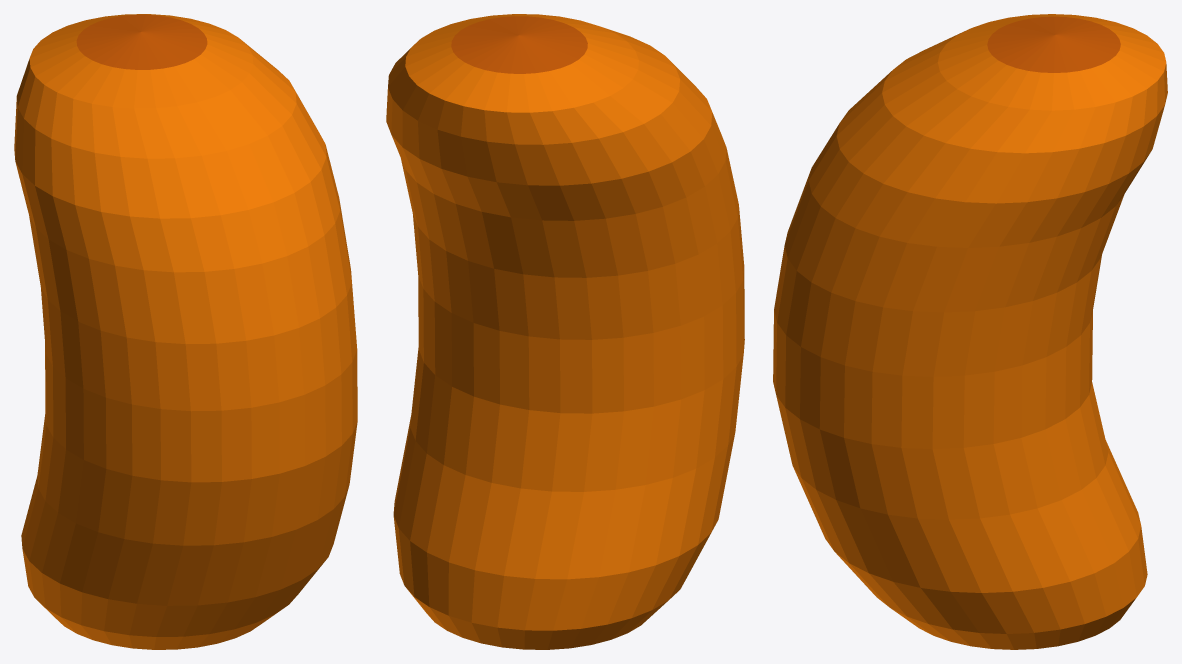
The model's file is LowPoly-CarrotSeed.fbx.
3 views of the same model, side by side, from view 1: azimuth 30°, elevation 25°; view 2: azimuth 150°, elevation 25°; view 3: azimuth 270°, elevation 25° (orthographic). The views are drawn at different scales.
Parts seen in each view (by area): view 1: Cylinder; view 2: Cylinder; view 3: Cylinder.
Boxes of the visible parts, x1,y1,x2,y2 form: Cylinder: (14, 14, 357, 649); Cylinder: (386, 14, 744, 649); Cylinder: (773, 14, 1167, 649).
Size of the model in its own units: 35.11 by 72.23 by 43.45.
1 material, 1 textured.
